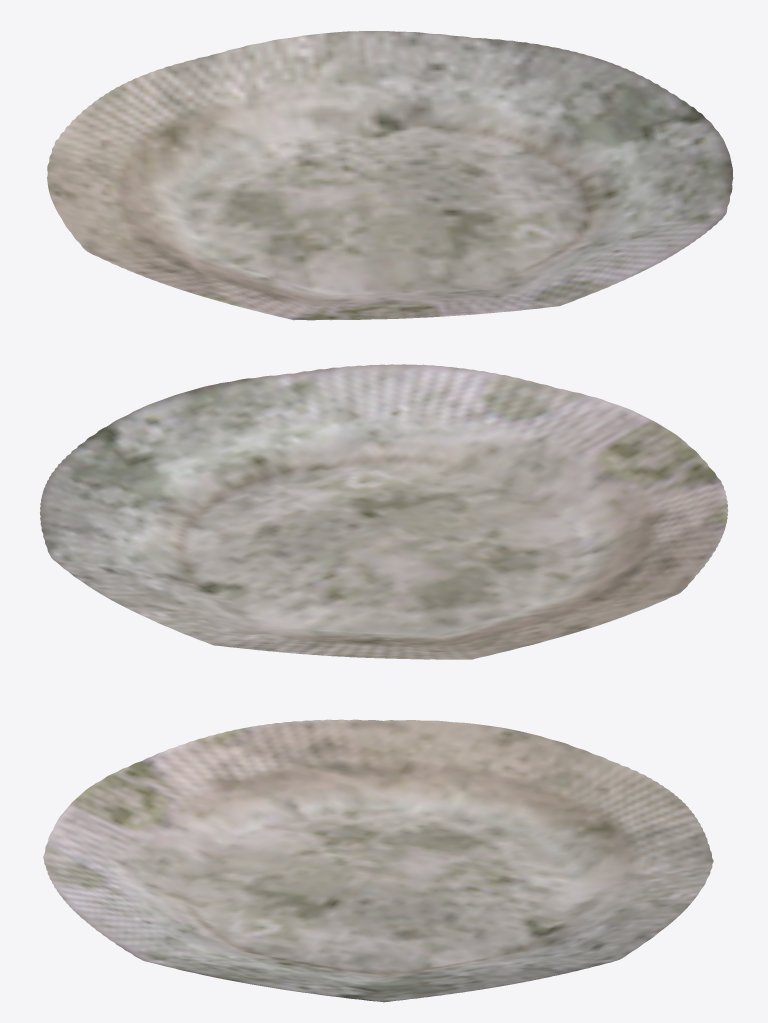
The model's file is M_Home_Garden_paperPlate.fbx.
3 views of the same model, one above another, from view 1: azimuth 30°, elevation 25°; view 2: azimuth 150°, elevation 25°; view 3: azimuth 270°, elevation 25° (orthographic). The views are drawn at different scales.
Visible parts, largest first — view 1: M_Home_Garden_paperPlate; view 2: M_Home_Garden_paperPlate; view 3: M_Home_Garden_paperPlate.
Boxes of the visible parts, x1,y1,x2,y2 form: M_Home_Garden_paperPlate: [47, 31, 733, 320]; M_Home_Garden_paperPlate: [40, 364, 728, 659]; M_Home_Garden_paperPlate: [43, 719, 713, 1002].
Size of the model in its own units: 25.14 by 1.41 by 25.14.
